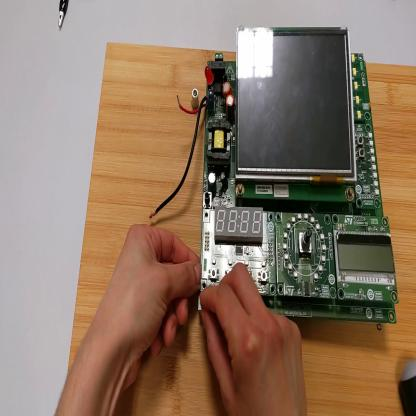hand: (200, 261, 309, 414), (102, 225, 202, 380)
low voltage board: (149, 27, 399, 327)
screwdriver-: (397, 359, 415, 415)
working area: (69, 43, 416, 416)
